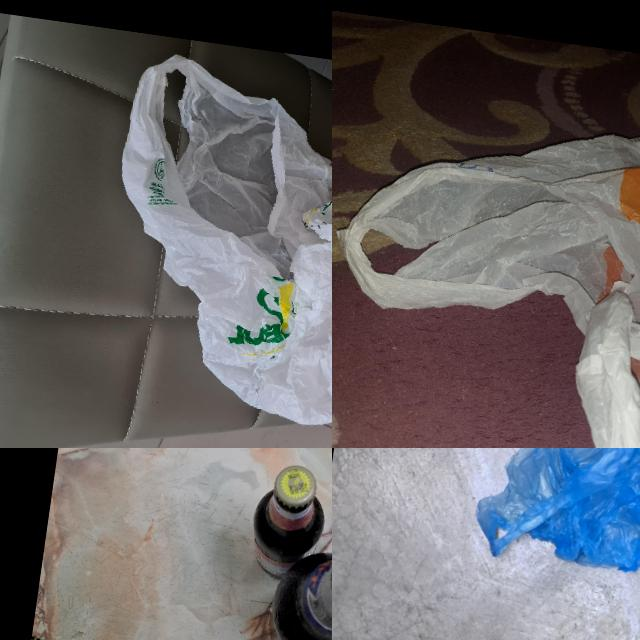garrafa de vidro: (246, 459, 331, 584), (263, 540, 332, 640)
sacola plástica: (332, 59, 640, 448), (85, 50, 332, 438), (468, 448, 640, 587)
